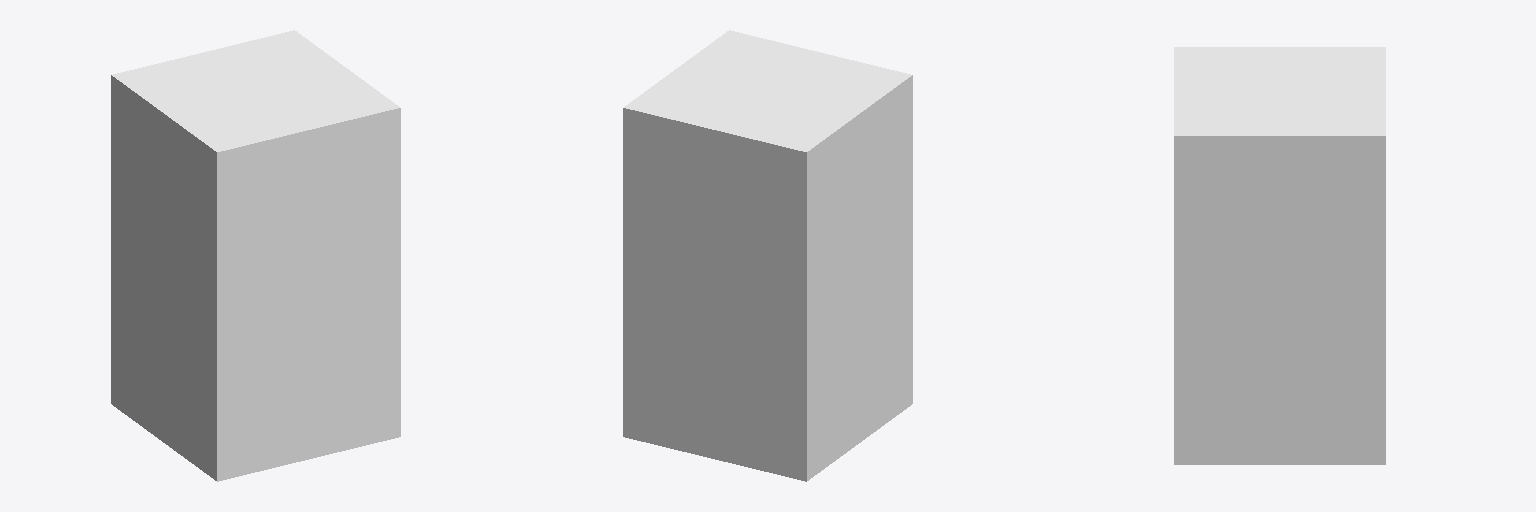
Rendered from FFleftfootup.obj.
3 views of the same model, side by side, from view 1: azimuth 30°, elevation 25°; view 2: azimuth 150°, elevation 25°; view 3: azimuth 270°, elevation 25° (orthographic).
Visible parts, largest first — view 1: object 1; view 2: object 1; view 3: object 1.
Part boxes in pixels (left/top/right/bottom): object 1: left=111, top=30, right=400, bottom=481; object 1: left=623, top=30, right=912, bottom=481; object 1: left=1174, top=47, right=1385, bottom=464.
Bounding box in the file's own units: 0.7 × 1.2 × 0.7.